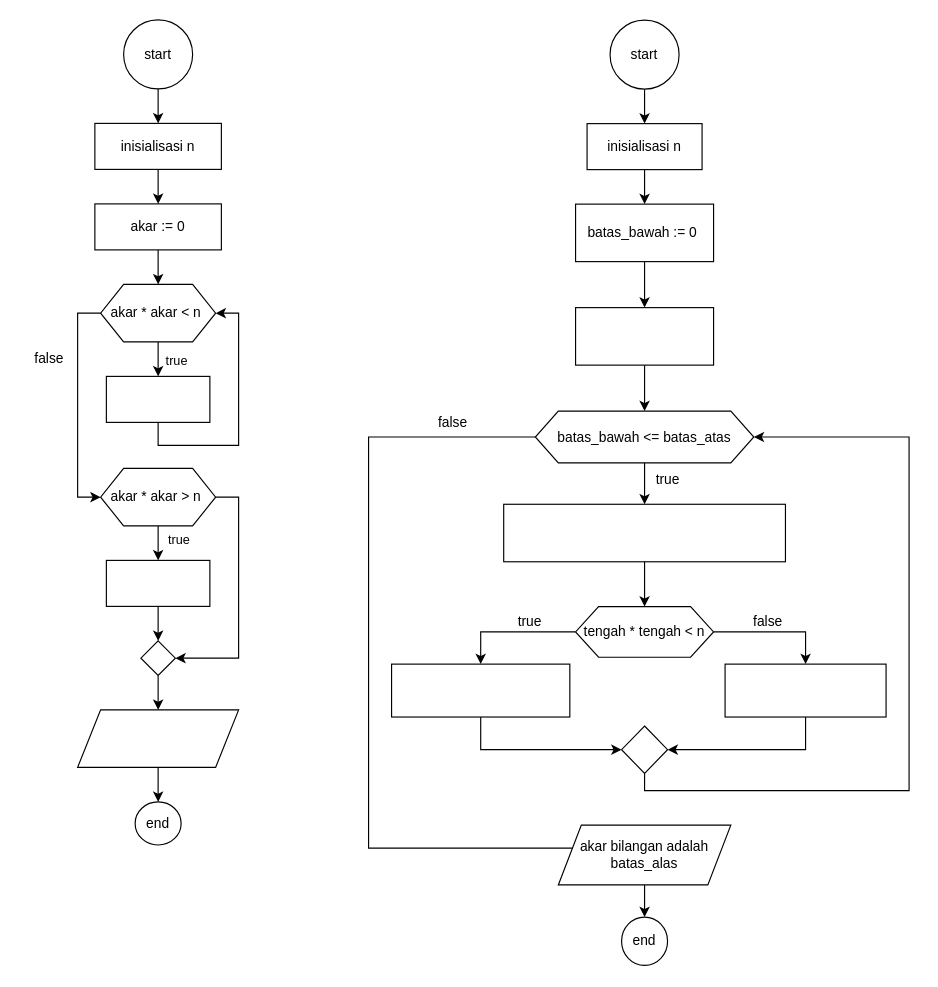
This 938x987 diagram has some shape labels left out. The centre of each missing label's shape, as x and y in pixels:
"akar := akar + 1" belongs at point 157,398.
"akar := akar - 1" belongs at point 157,582.
"akar bilangan adalah akar" belongs at point 157,738.
"batas_atas := n" belongs at point 644,335.
"batas_atas := tengah - 1" belongs at point 805,690.
"batas_bawah := tengah + 1" belongs at point 480,690.
"tengah := (batas_bawah + batas_atas) / 2" belongs at point 644,532.
